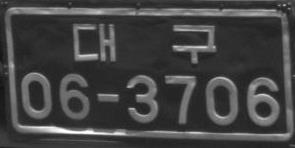0: (204, 75, 239, 125), (20, 70, 52, 119)
3: (126, 72, 158, 122)
6: (246, 75, 280, 128), (58, 72, 90, 121)
7: (162, 74, 197, 125)
대구_D: (72, 22, 217, 63)
